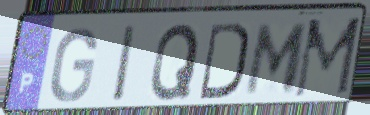D: (197, 20, 251, 102)
G: (47, 25, 99, 105)
I: (111, 22, 139, 105)
M: (291, 14, 364, 101), (241, 22, 311, 99)
Q: (147, 21, 202, 104)
